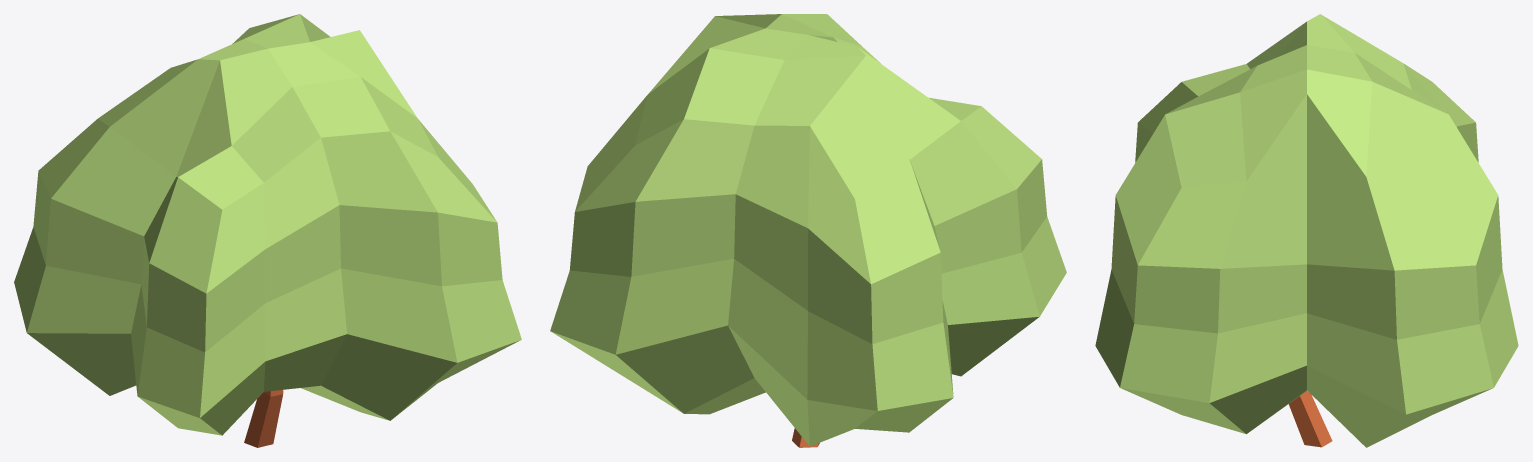
The model's file is Plants.fbx.
3 renders of one model, left to right at view 1: azimuth 30°, elevation 25°; view 2: azimuth 150°, elevation 25°; view 3: azimuth 270°, elevation 25°, orthographic.
Visible parts, largest first — view 1: Plants; view 2: Plants; view 3: Plants.
Part boxes in pixels (x1=…): Plants: x1=14, y1=14, x2=521, y2=447; Plants: x1=550, y1=14, x2=1066, y2=447; Plants: x1=1095, y1=14, x2=1518, y2=447.
Bounding box in the file's own units: 306 × 302 × 291.
